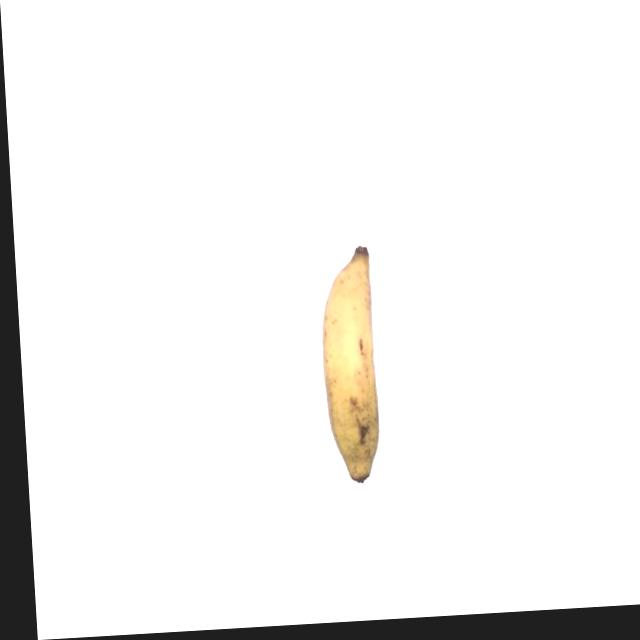banana: (312, 239, 389, 490)
